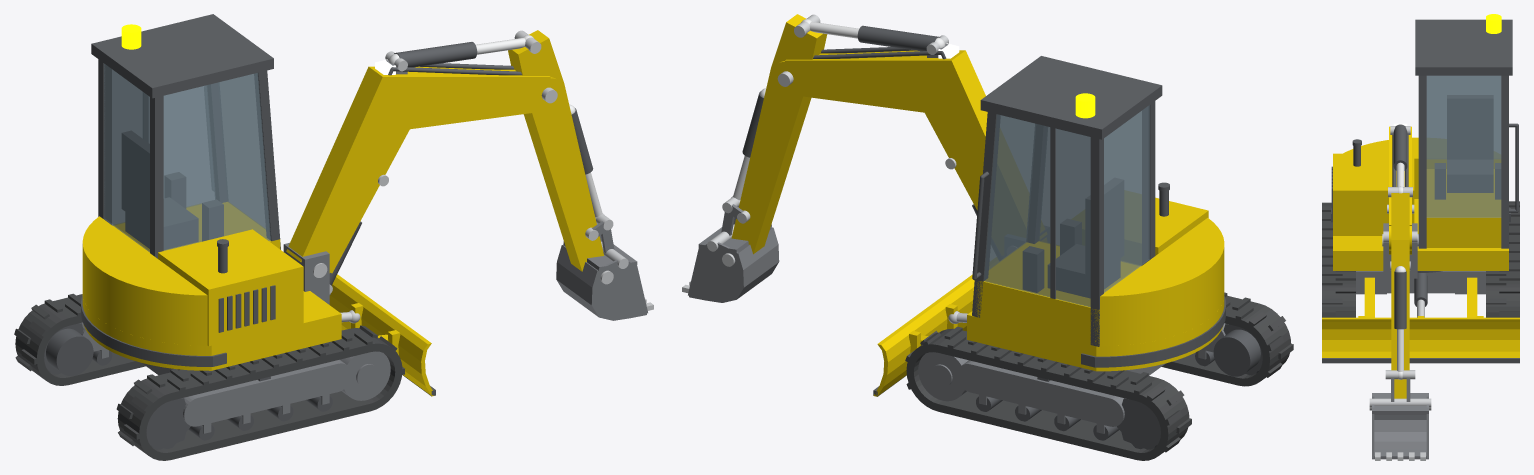
The model's file is Mini_Excavator_3-5t.glb.
3 renders of one model, left to right at view 1: azimuth 30°, elevation 25°; view 2: azimuth 150°, elevation 25°; view 3: azimuth 270°, elevation 25°, orthographic. The views are drawn at different scales.
Parts seen in each view (by area): view 1: upper, cab_glass, boom, cab_frame, track_R, arm, seat, track_frame_R, bucket, track_L, blade, ram_barrels (+11 smaller); view 2: cab_glass, cab_frame, upper, boom, track_L, arm, cab_lower, seat, track_frame_L, bucket, track_R, blade (+9 smaller); view 3: cab_glass, upper, blade, cab_frame, seat, cab_lower, bucket, arm, track_R, track_L, centre_frame, ram_barrels (+13 smaller).
Part boxes in pixels (x1,y1,x2,y2): upper: (82, 216, 341, 370); cab_glass: (104, 63, 270, 252); boom: (286, 66, 562, 273); cab_frame: (91, 14, 280, 258); track_R: (116, 325, 404, 460); arm: (508, 30, 603, 271); seat: (122, 131, 223, 249); track_frame_R: (183, 359, 351, 426); bucket: (556, 241, 647, 320); track_L: (14, 293, 145, 385); blade: (329, 274, 433, 396); ram_barrels: (329, 42, 593, 285); cab_glass: (983, 105, 1149, 307); cab_frame: (972, 56, 1162, 346); upper: (967, 197, 1224, 371); boom: (772, 50, 987, 210); track_L: (905, 326, 1191, 460); arm: (731, 14, 827, 254); cab_lower: (975, 241, 1140, 346); seat: (1023, 178, 1123, 297); track_frame_L: (957, 360, 1133, 426); bucket: (688, 224, 779, 302); track_R: (1161, 292, 1293, 386); blade: (873, 274, 974, 396); cab_glass: (1426, 75, 1501, 217); upper: (1333, 137, 1508, 270); blade: (1322, 277, 1519, 357); cab_frame: (1415, 19, 1512, 248); seat: (1435, 95, 1500, 199); cab_lower: (1426, 169, 1501, 247); bucket: (1372, 393, 1428, 459); arm: (1391, 193, 1409, 398); track_R: (1322, 202, 1355, 317); track_L: (1486, 201, 1519, 317); centre_frame: (1356, 271, 1485, 293); ram_barrels: (1393, 124, 1407, 329).
Size of the model in its own units: 4.47 by 2.62 by 1.74.
